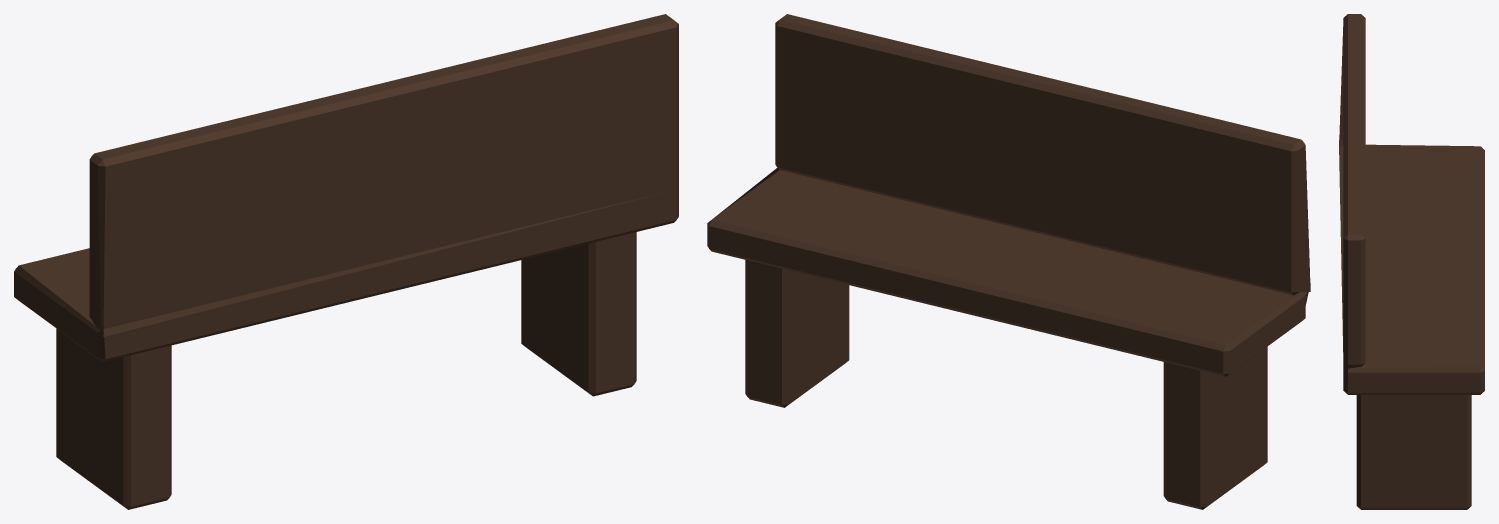
File: bench.fbx
3 renders of one model, left to right at view 1: azimuth 30°, elevation 25°; view 2: azimuth 150°, elevation 25°; view 3: azimuth 270°, elevation 25°, orthographic. The views are drawn at different scales.
Visible parts, largest first — view 1: bench; view 2: bench; view 3: bench.
Part boxes in pixels (box(x1,y1,x2,y2)): bench: box(14, 14, 678, 509); bench: box(707, 14, 1310, 509); bench: box(1339, 14, 1484, 509).
Bounding box in the file's own units: 600 × 360 × 165.
